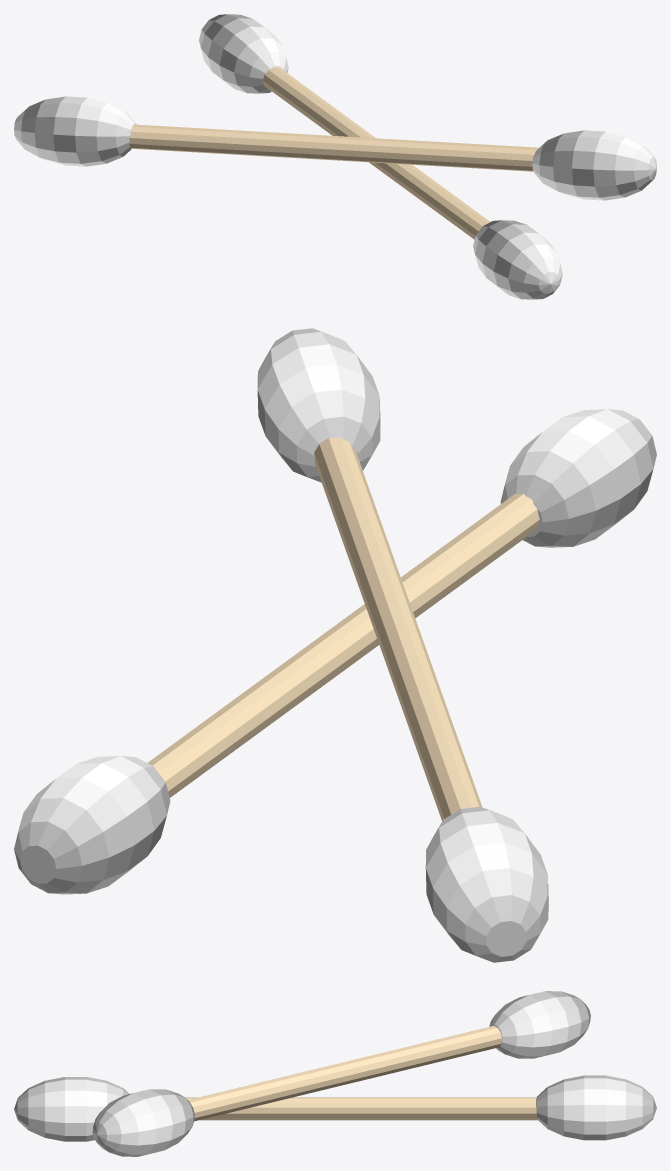
3 views of the same model, one above another, from view 1: azimuth 30°, elevation 25°; view 2: azimuth 150°, elevation 25°; view 3: azimuth 270°, elevation 25° (orthographic). The views are drawn at different scales.
Visible parts, largest first — view 1: model; view 2: model; view 3: model.
Part boxes in pixels (bbox=[...]): model: bbox=[14, 14, 656, 299]; model: bbox=[14, 328, 656, 962]; model: bbox=[14, 991, 656, 1156].
Size of the model in its own units: 148 by 39.05 by 223.
